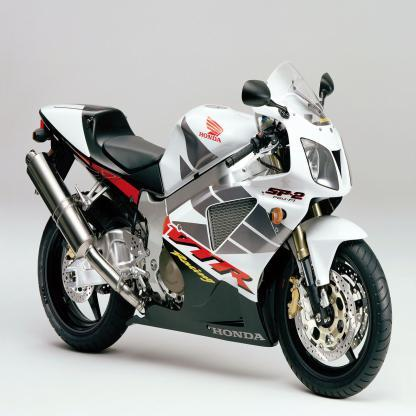Motorcycle: (21, 62, 390, 400)
